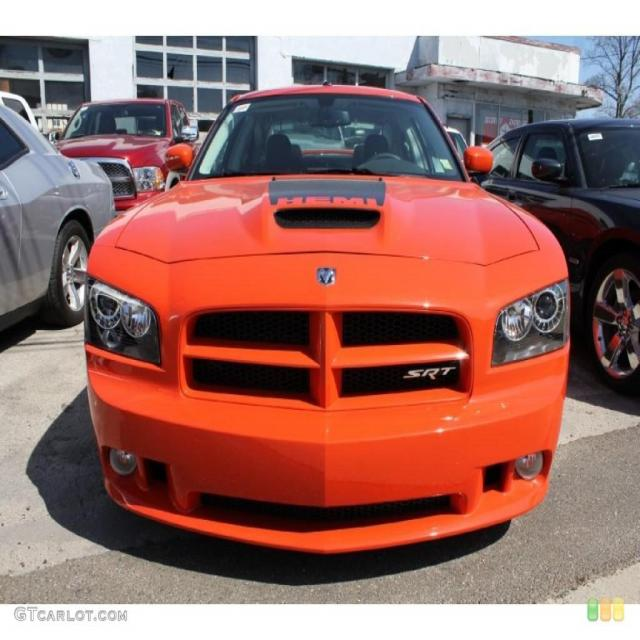car: (86, 10, 571, 608), (491, 108, 640, 376), (72, 86, 206, 222)
